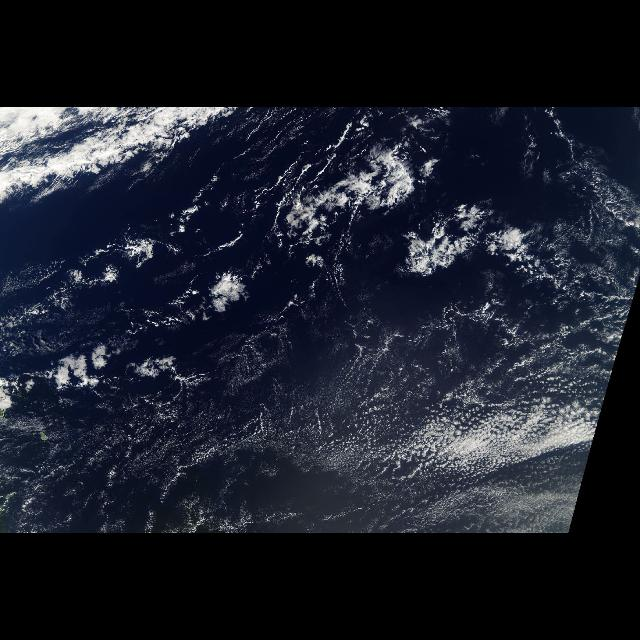Fish: (0, 108, 296, 276)
Sugar: (174, 333, 594, 533)
